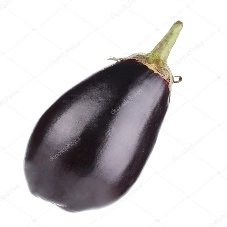eggplant: (23, 51, 178, 215)
